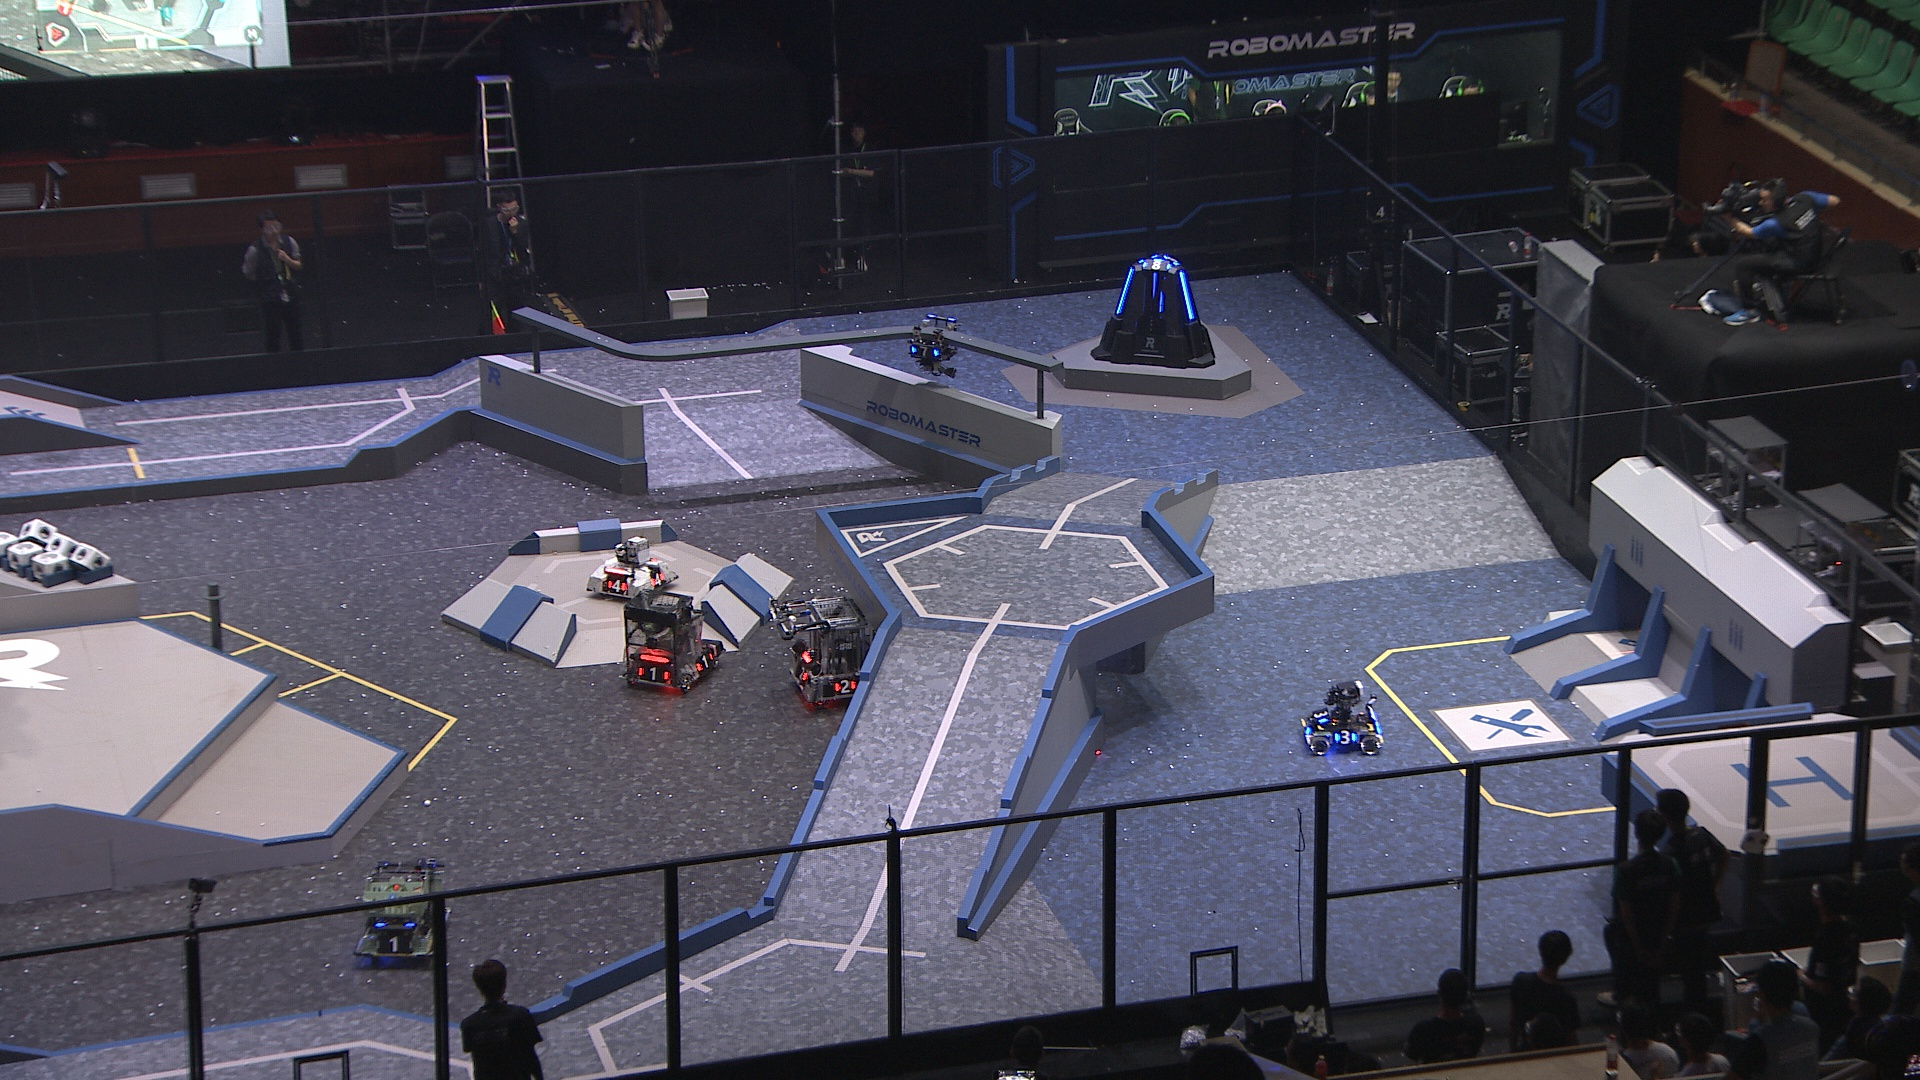armor: (1114, 266, 1134, 316), (1178, 272, 1197, 320), (378, 932, 414, 955), (828, 676, 858, 698), (636, 666, 670, 683), (1139, 256, 1172, 273), (1332, 728, 1358, 746), (909, 345, 942, 360), (695, 651, 713, 674), (605, 580, 628, 597), (1149, 272, 1160, 301), (1313, 704, 1328, 725), (794, 665, 808, 684), (1154, 290, 1167, 311), (650, 572, 665, 589)
base: (1088, 253, 1216, 371)
car: (615, 585, 723, 694), (783, 597, 887, 709), (356, 856, 451, 964), (1298, 680, 1386, 757), (585, 533, 679, 603)
watcher: (906, 311, 961, 378)
